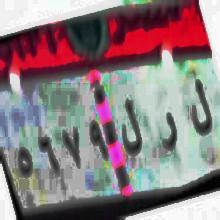5: (17, 139, 34, 190)
6: (39, 129, 61, 187)
7: (64, 125, 82, 177)
9: (90, 117, 108, 172)
laam: (190, 74, 213, 146), (122, 99, 144, 169)
raa: (162, 106, 178, 162)
